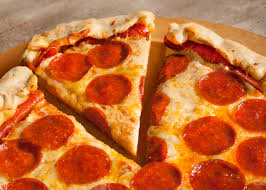pizza: (22, 13, 151, 156)
